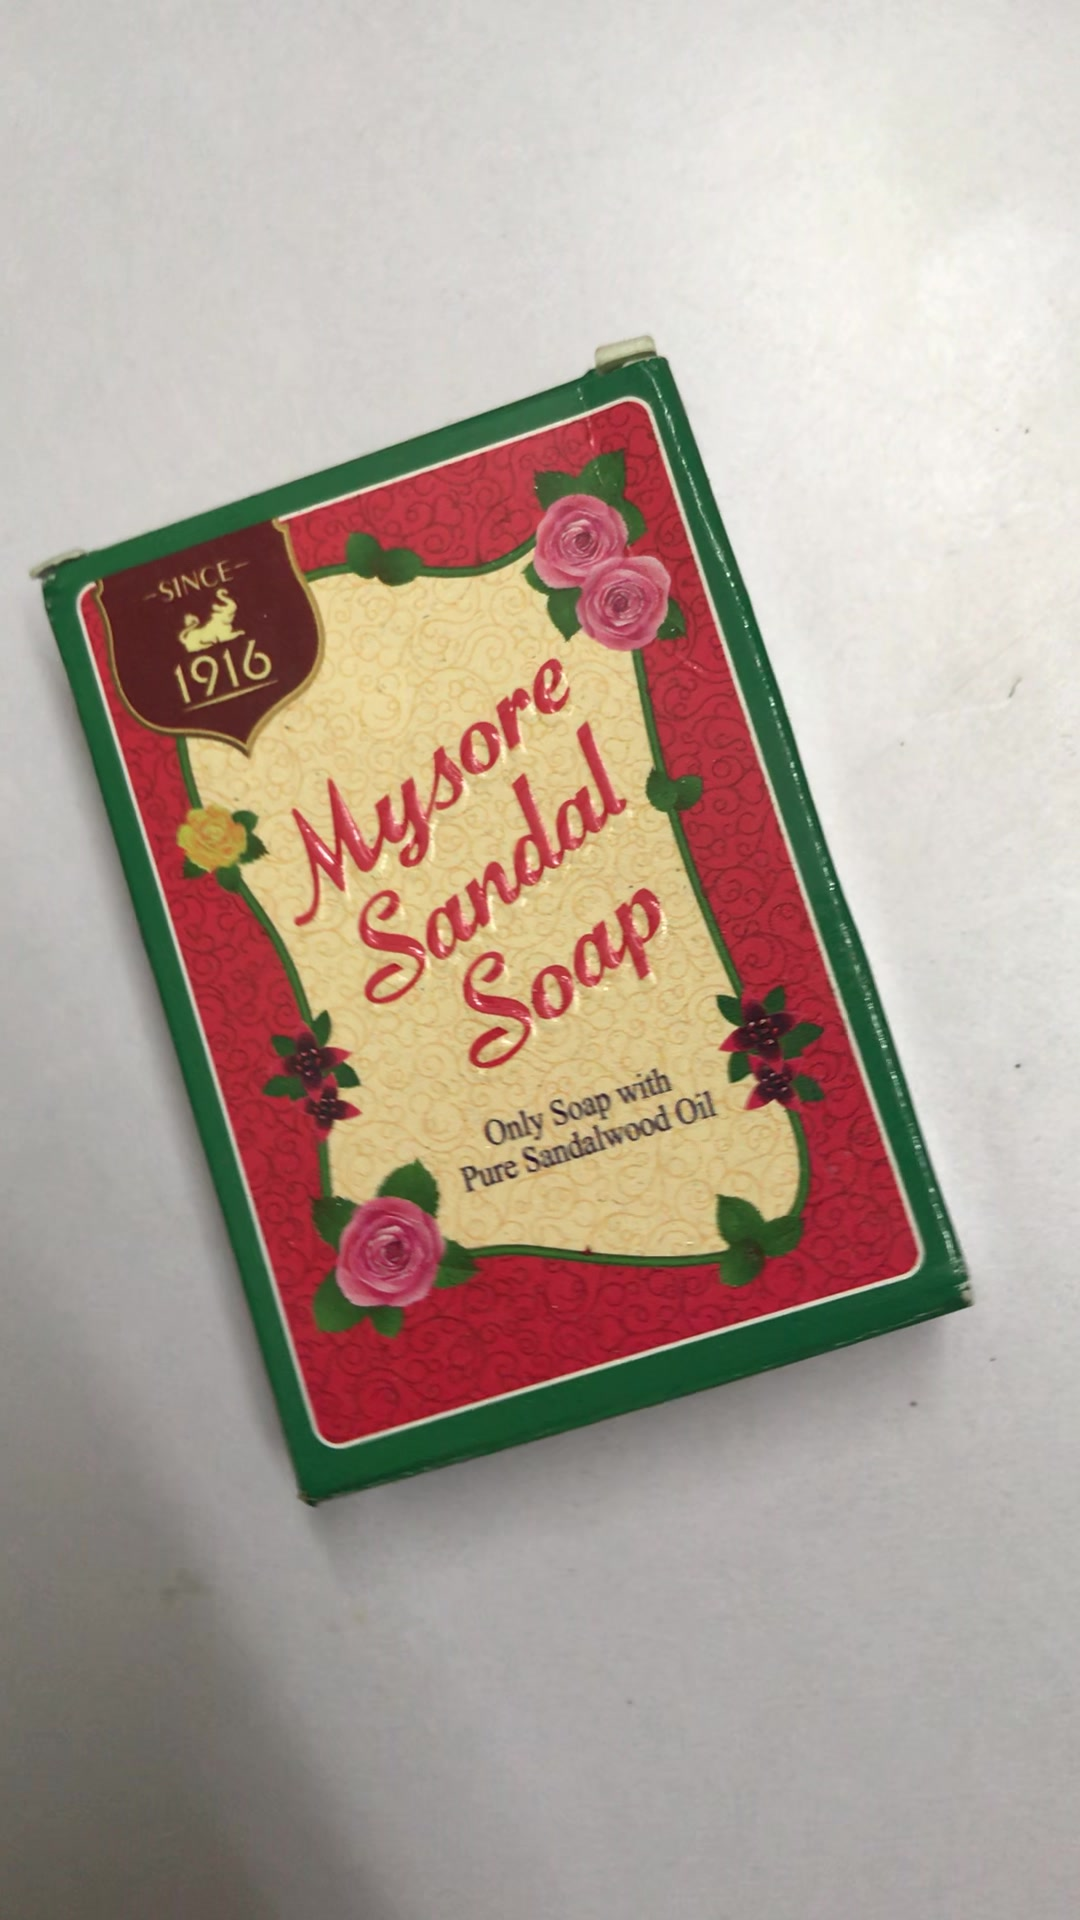mysore sandal soap: (40, 348, 976, 1509)
